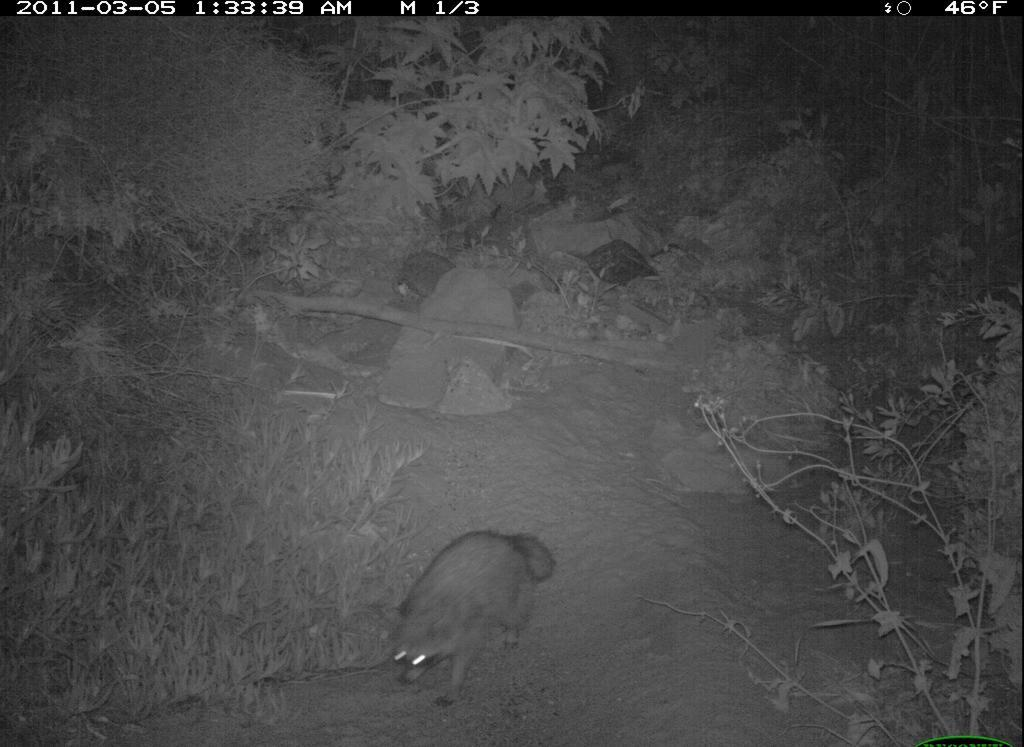raccoon: (369, 525, 578, 725)
